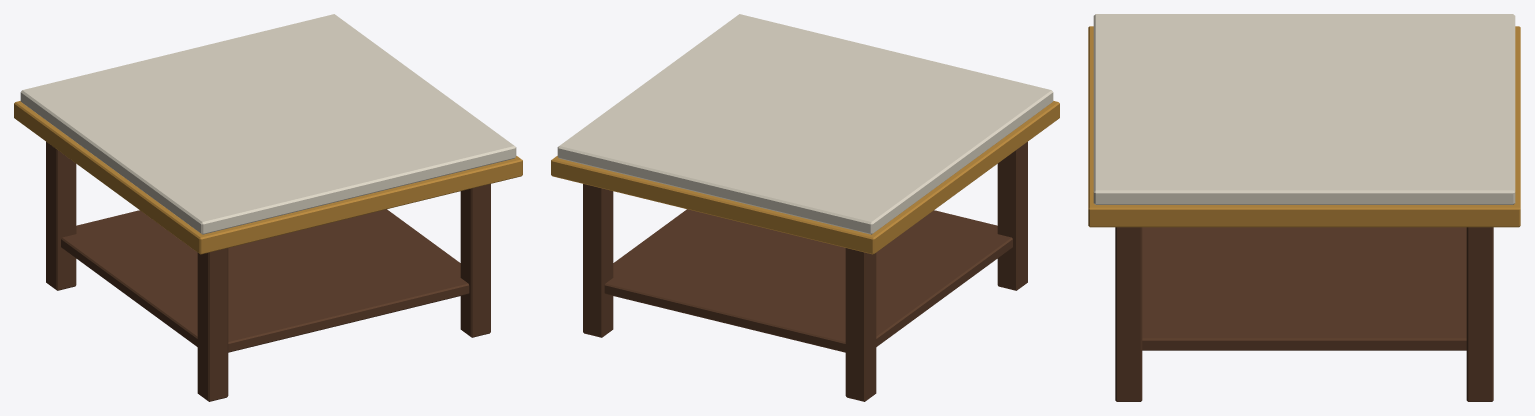
Rendered from prop_of_coffee_table_sq80.glb.
3 renders of one model, left to right at view 1: azimuth 30°, elevation 25°; view 2: azimuth 150°, elevation 25°; view 3: azimuth 270°, elevation 25°, orthographic. The views are drawn at different scales.
Visible parts, largest first — view 1: Table; view 2: Table; view 3: Table.
Boxes of the visible parts, x1,y1,x2,y2 form: Table: [14, 14, 522, 401]; Table: [551, 14, 1059, 401]; Table: [1088, 14, 1520, 401].
Size of what is drawn, in the model's own units: 0.8 by 0.45 by 0.8.
